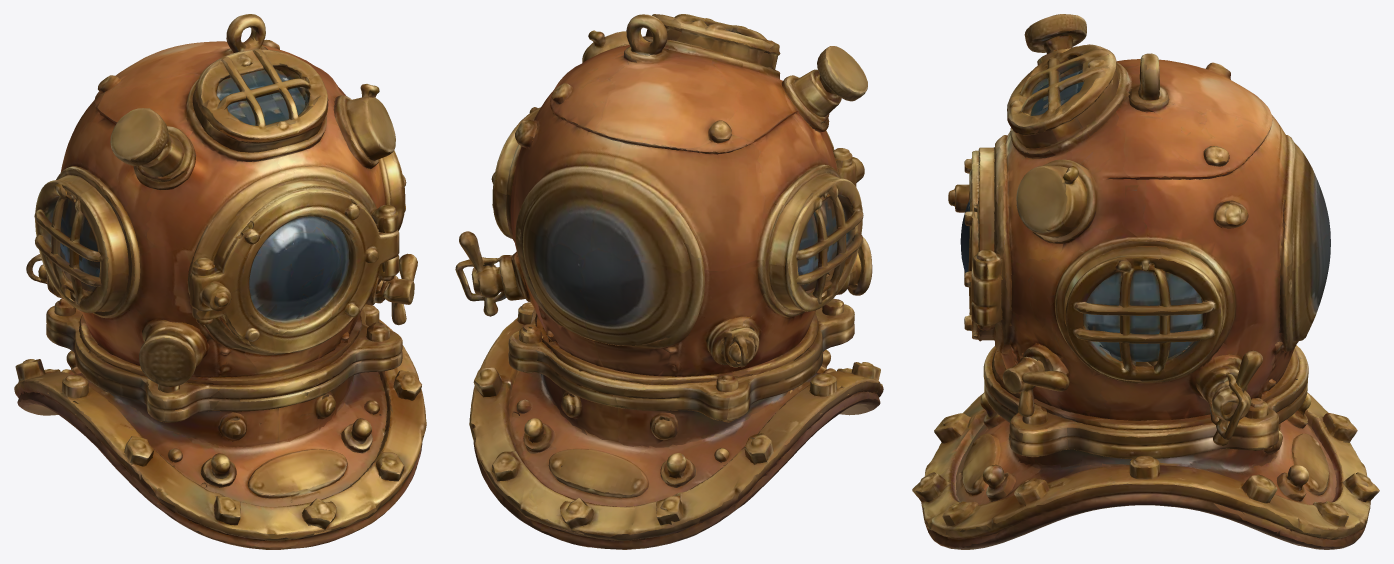
Rendered from helmet-fixed.glb.
3 views of the same model, side by side, from view 1: azimuth 30°, elevation 25°; view 2: azimuth 150°, elevation 25°; view 3: azimuth 270°, elevation 25° (orthographic). The views are drawn at different scales.
Parts seen in each view (by area): view 1: geometry_0; view 2: geometry_0; view 3: geometry_0.
Part boxes in pixels (x1,y1,x2,y2): geometry_0: [14, 14, 426, 549]; geometry_0: [455, 14, 883, 549]; geometry_0: [912, 14, 1379, 549].
Bounding box in the file's own units: 0.3005 × 0.38 × 0.3369.
Materials: 1 (1 with a texture image).
